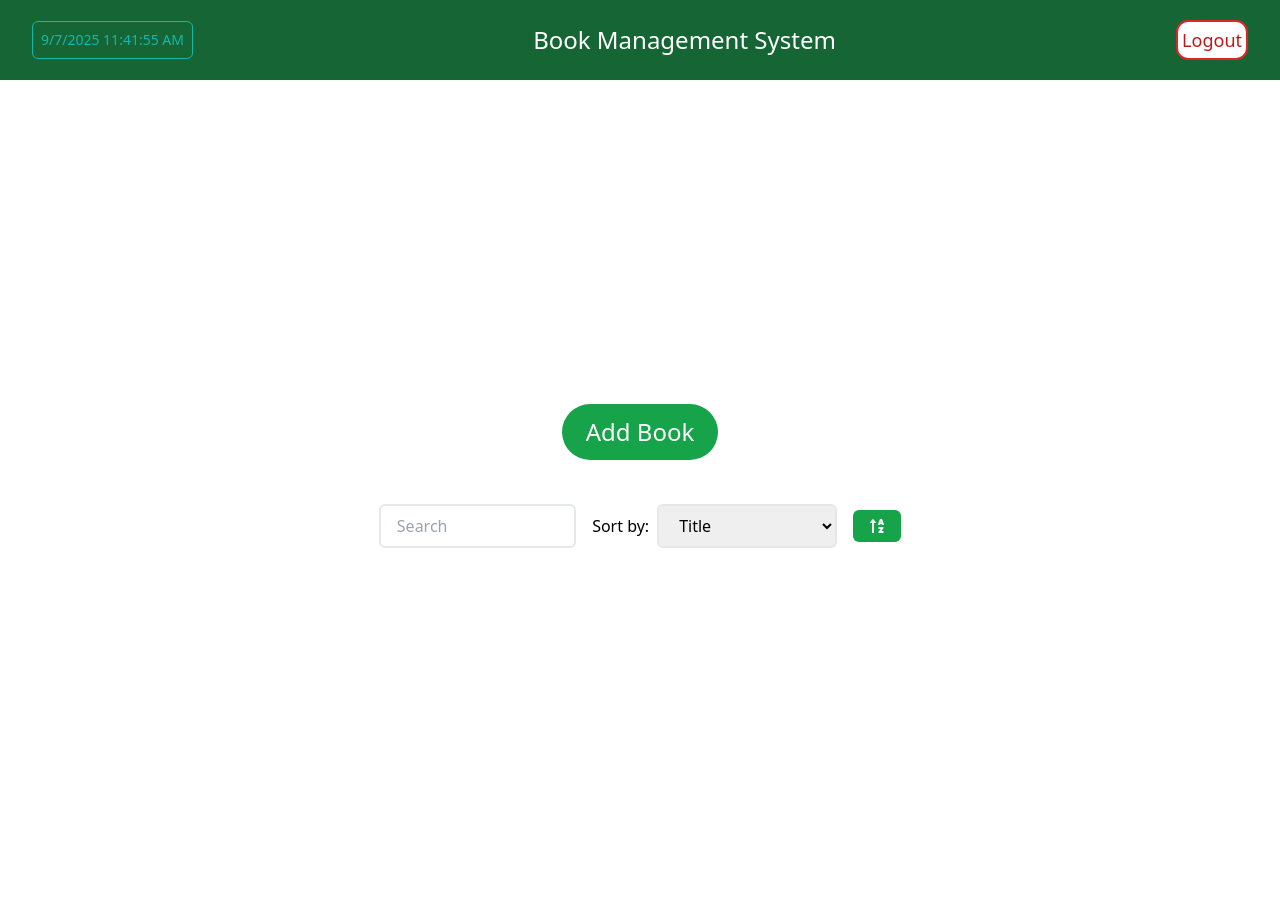
BookManager › opens add book modal when clicking Add Book button
Click the button with test id "AddBook" at (640, 432), box x1=562 y1=404 x2=718 y2=460
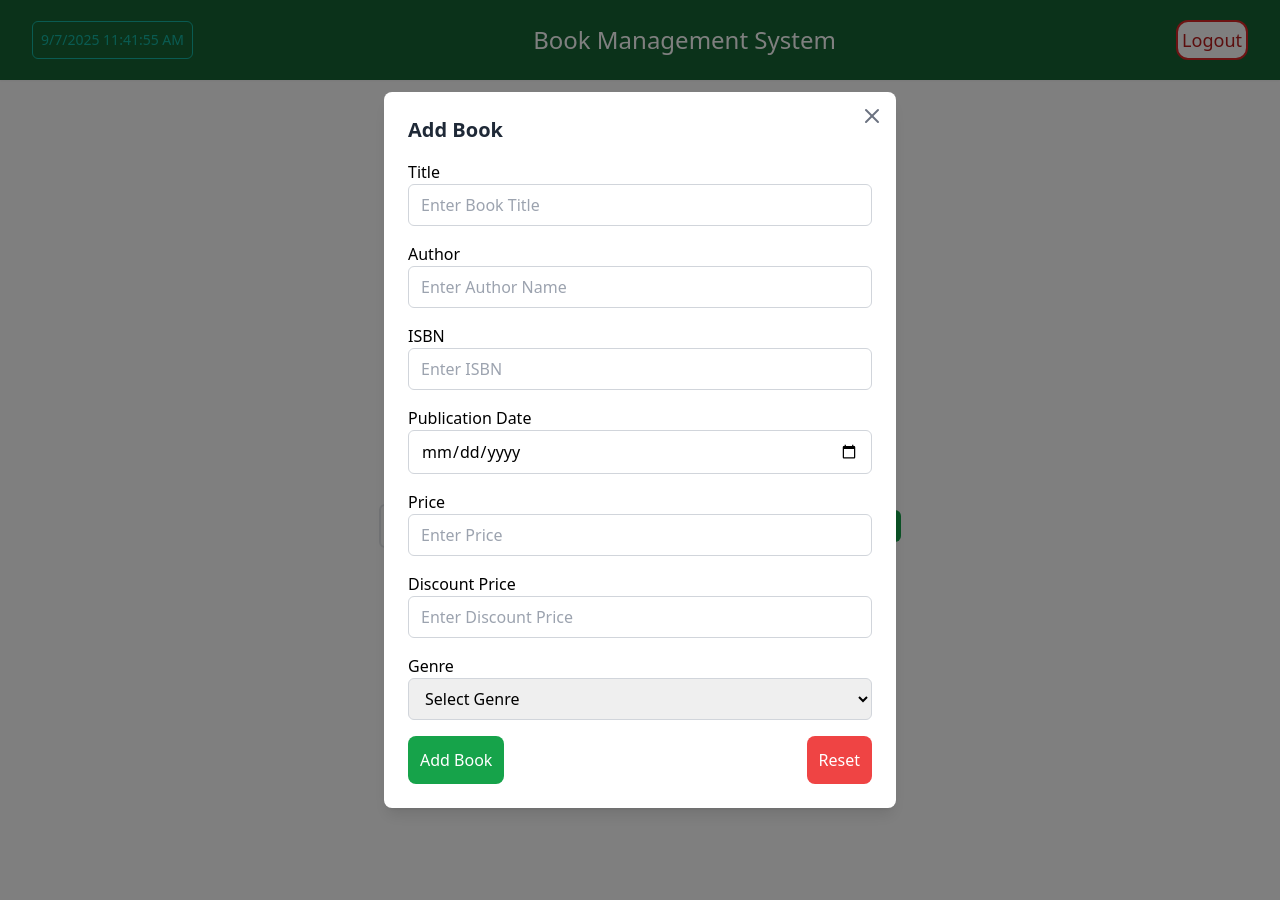
expect the heading "Add Book" is shown: met, box x1=408 y1=116 x2=503 y2=143
